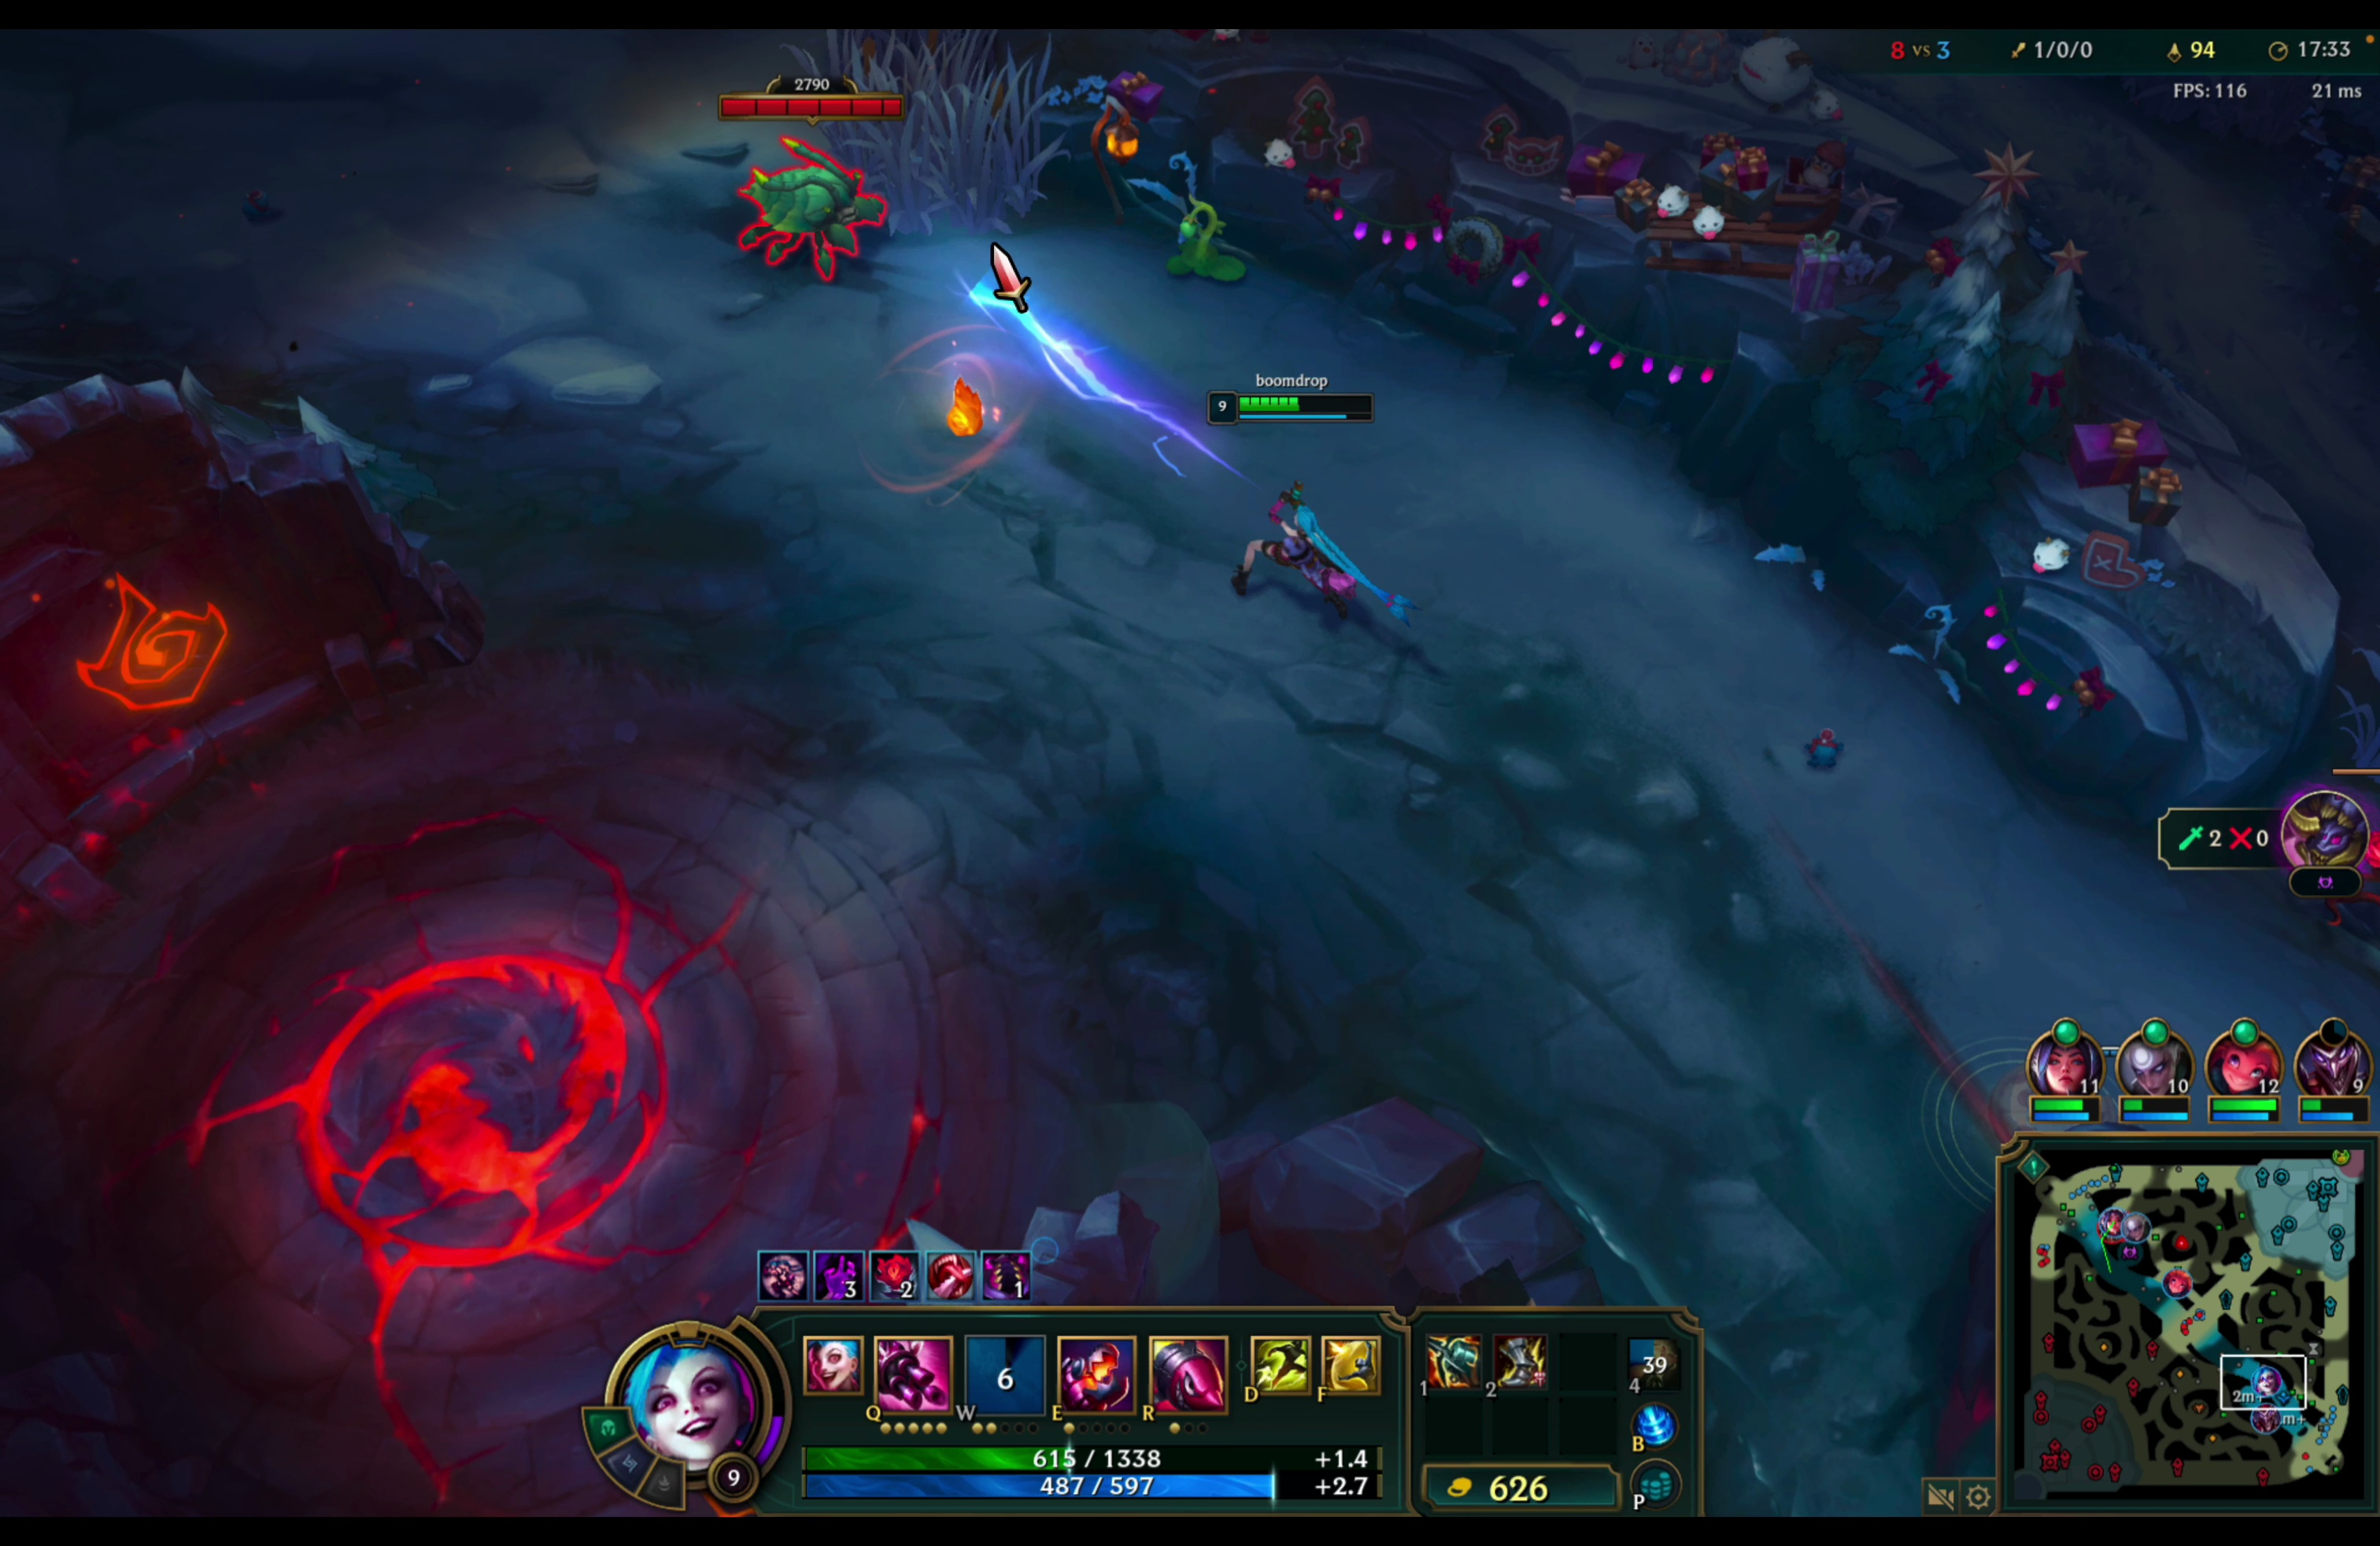LABEL_W_PROJECTILE: (951, 245, 1438, 649)
